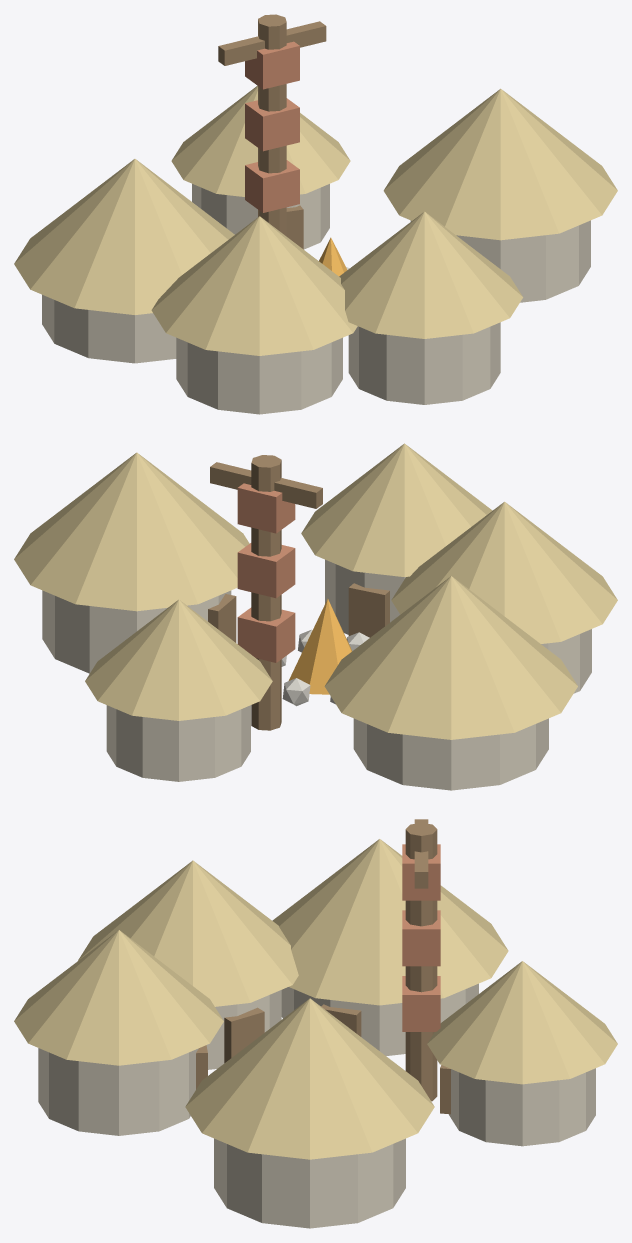
File: civ_tribal_village.glb
3 renders of one model, top to bottom at view 1: azimuth 30°, elevation 25°; view 2: azimuth 150°, elevation 25°; view 3: azimuth 270°, elevation 25°, orthographic. The views are drawn at different scales.
Parts seen in each view (by area): view 1: civ_tribal_village; view 2: civ_tribal_village; view 3: civ_tribal_village.
Boxes of the visible parts, x1,y1,x2,y2 form: civ_tribal_village: (14,14,617,414); civ_tribal_village: (14,443,617,790); civ_tribal_village: (14,819,617,1228).
Bounding box in the file's own units: 2.92 × 1.32 × 2.66.
